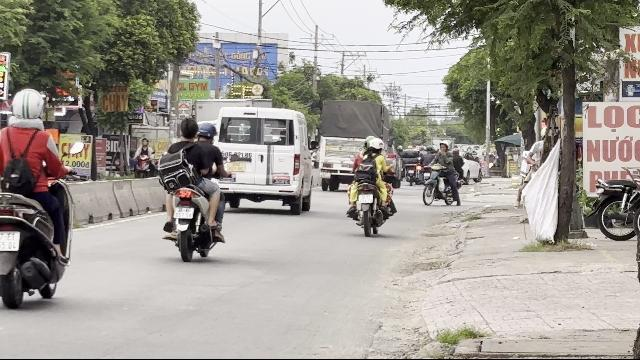helmet: (8, 88, 46, 127), (196, 122, 216, 142), (364, 136, 382, 152)
licenseplate: (0, 230, 18, 250), (174, 207, 192, 218), (358, 194, 372, 202)
motorcyclist: (0, 87, 76, 308), (156, 118, 228, 260), (344, 135, 396, 235)
nohelmet: (178, 116, 198, 140)
